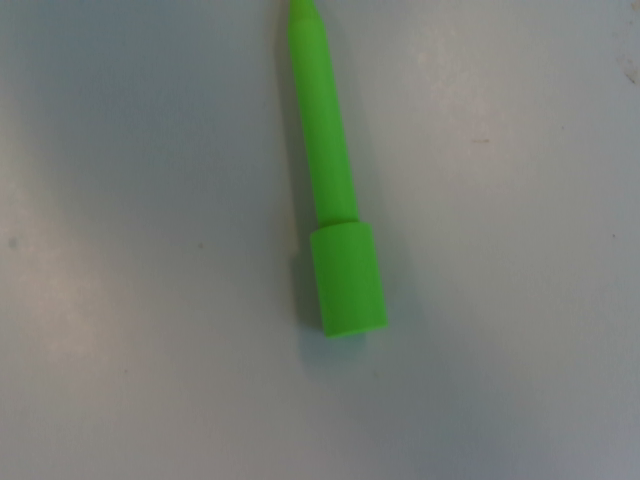Probe: (281, 1, 396, 348)
